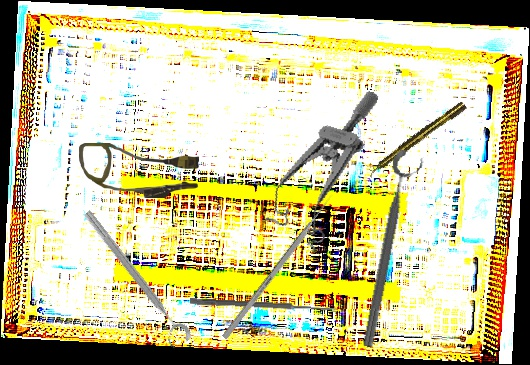Cannula: (79, 143, 199, 198)
Fixation Ring: (72, 206, 195, 353), (357, 148, 427, 351)
Handpiece: (365, 100, 468, 179)
Pusher: (221, 192, 336, 341)
Speculum: (260, 73, 380, 257)
Surgical Spoon: (189, 298, 338, 313)
